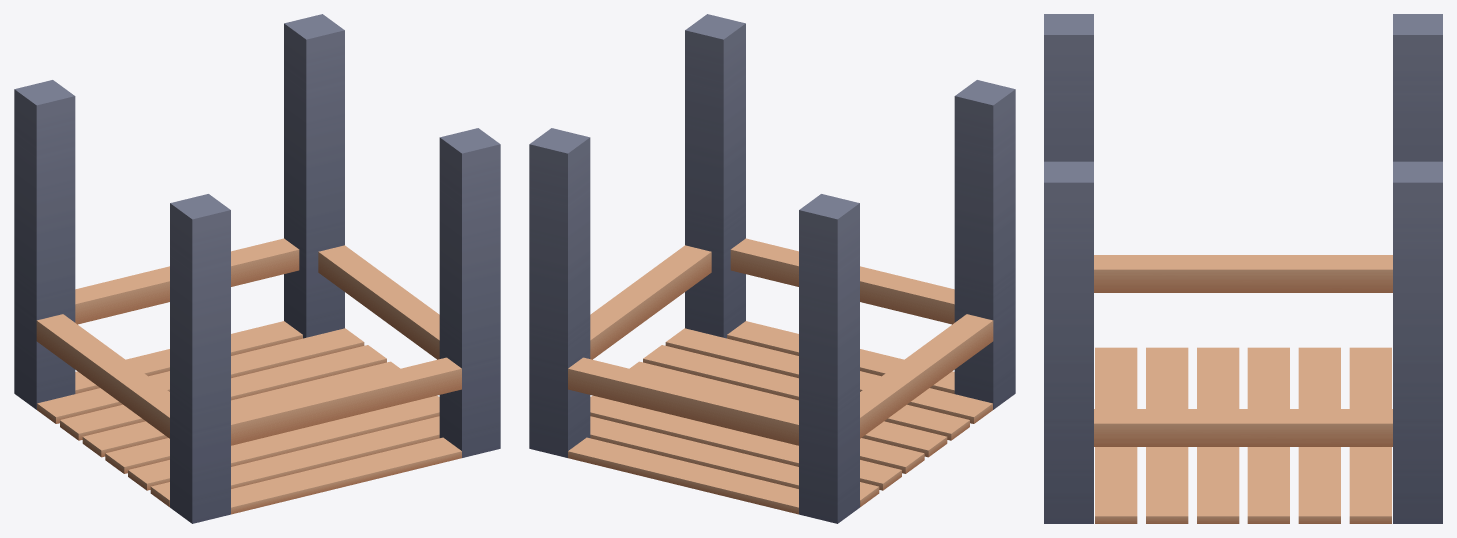
Rendered from tower-square-mid-open-simple.fbx.
3 renders of one model, left to right at view 1: azimuth 30°, elevation 25°; view 2: azimuth 150°, elevation 25°; view 3: azimuth 270°, elevation 25°, orthographic. The views are drawn at different scales.
Parts seen in each view (by area): view 1: tower-square-mid-open-simple; view 2: tower-square-mid-open-simple; view 3: tower-square-mid-open-simple.
Part boxes in pixels (bbox=[...]): tower-square-mid-open-simple: bbox=[14, 14, 500, 523]; tower-square-mid-open-simple: bbox=[529, 14, 1015, 523]; tower-square-mid-open-simple: bbox=[1044, 14, 1442, 523].
Size of the model in its own units: 0.93 by 0.93 by 0.8782.
